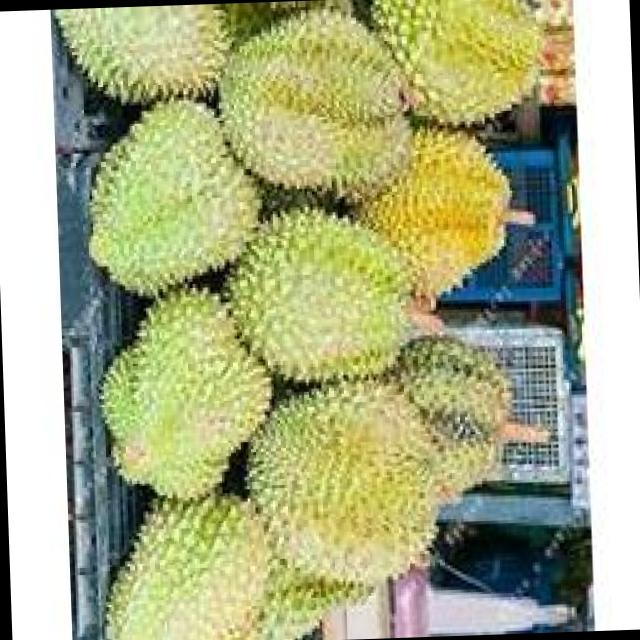fruit: (193, 343, 528, 622), (188, 178, 520, 405), (189, 0, 495, 232), (76, 278, 292, 510), (70, 87, 279, 310), (317, 0, 574, 148), (78, 472, 296, 640), (46, 2, 255, 120)
